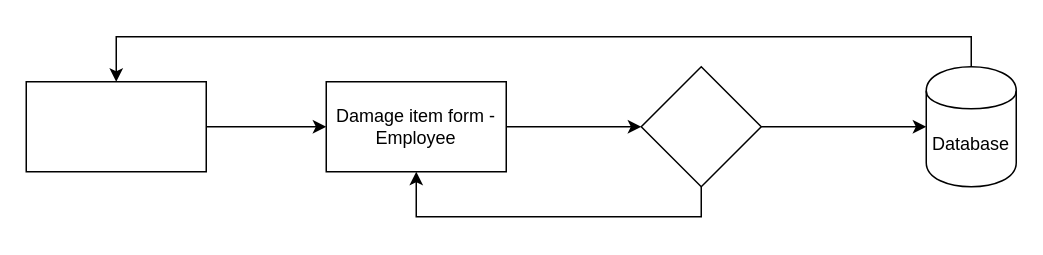
Some shapes in this 1043 by 255 pixel diagram are drawn without their labels. The box of each missing label's shape, as (x1, y1, x2, y2) in pixels:
Item List: (25, 80, 206, 172)
Validation: (640, 65, 761, 187)
